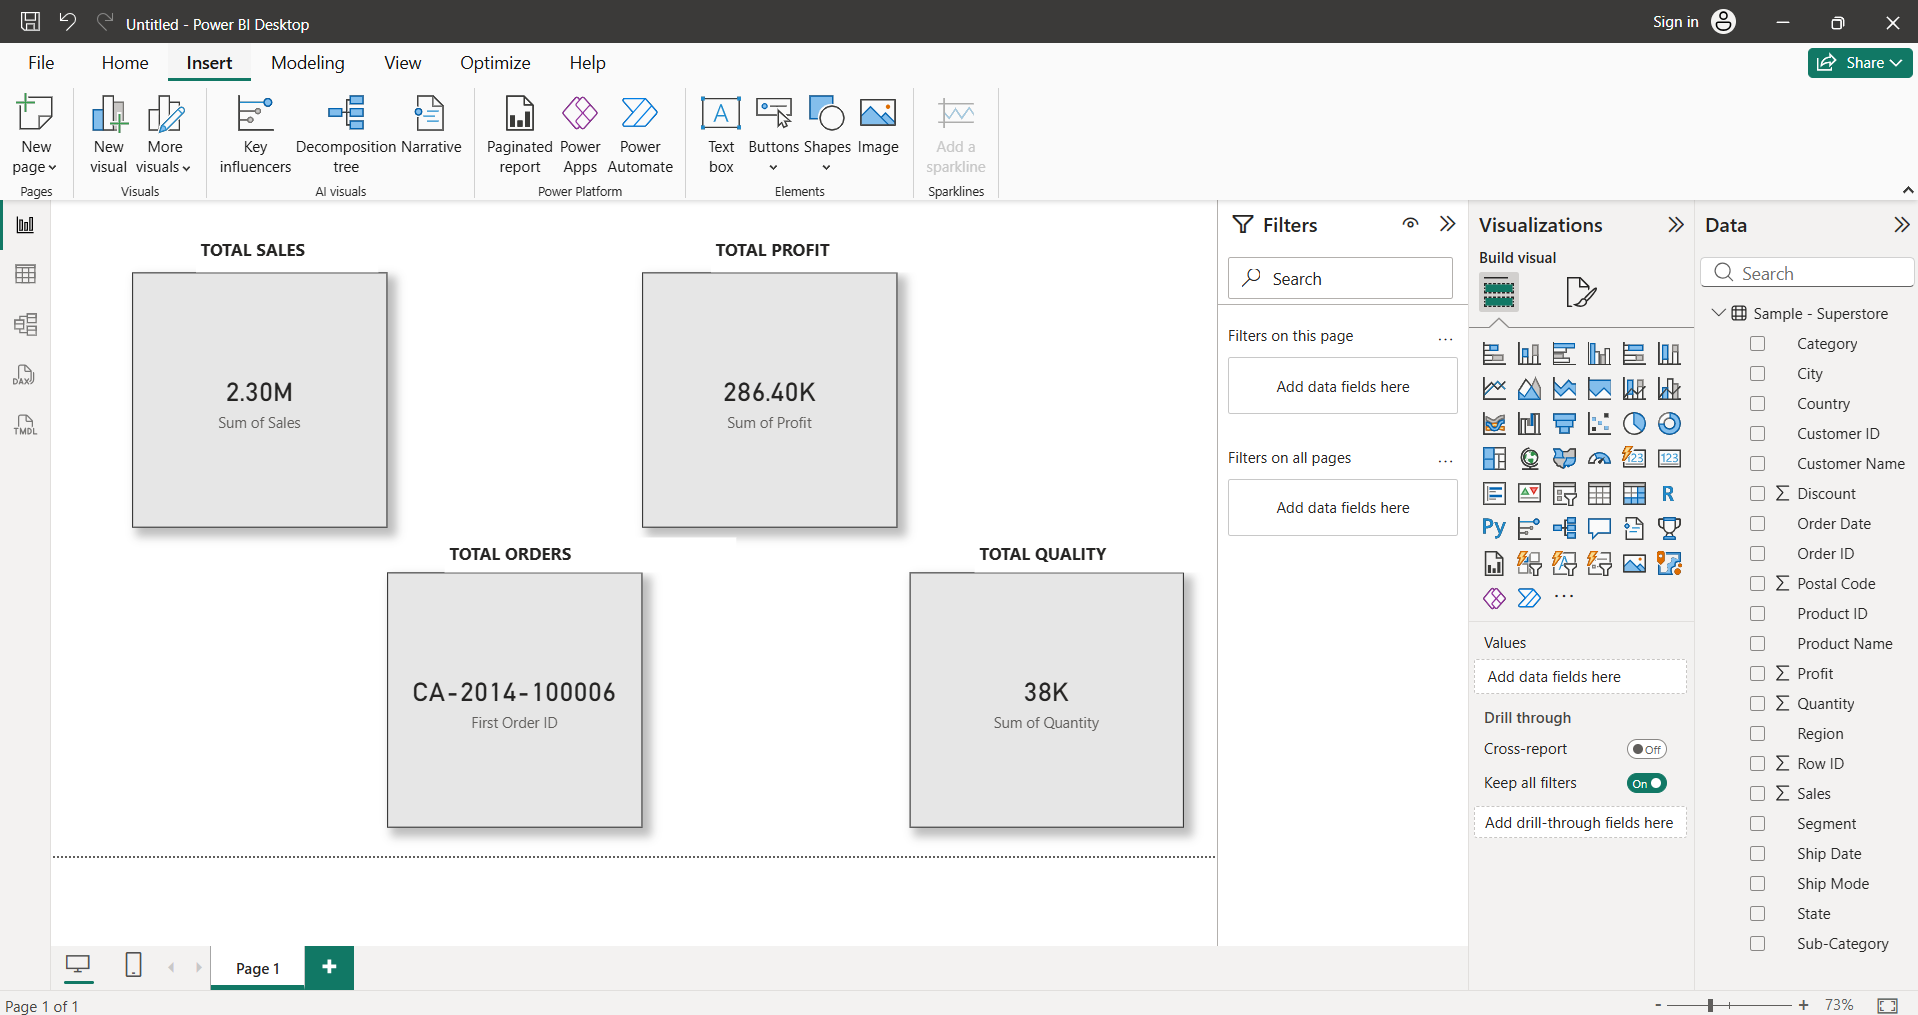

What the dashboard file says about the page in this screenshot:
{"tool":"powerbi","page":{"name":"Page 2","canvas":[1280,720],"ordinal":1},"visuals":[{"type":"card","fields":{"Values":["Sum(Sample - Superstore.Sales)"]},"box":[29.6,70.4,280.3,280.3],"z":0},{"type":"textbox","box":[102.8,14.1,207,56.3],"z":1000},{"type":"card","fields":{"Values":["Sum(Sample - Superstore.Profit)"]},"box":[309.9,401.4,280.3,278.9],"z":2000},{"type":"textbox","box":[384.5,350.7,408.5,50.7],"z":3000},{"type":"card","fields":{"Values":["Min(Sample - Superstore.Order ID)"]},"box":[590.1,70.4,284.5,278.9],"z":4000},{"type":"textbox","box":[663.4,14.1,229.6,56.3],"z":5000},{"type":"card","fields":{"Values":["Sum(Sample - Superstore.Quantity)"]},"box":[893,401.4,285.9,278.9],"z":6000},{"type":"textbox","box":[956.3,349.3,222.5,52.1],"z":7000}]}

Visuals, with their boxes on the page's 1280x720 design canvas (x1, y1, x2, y2). These are canvas units, not pixel positions in the 1918x1015 screenshot, which may show the page scaled, cropped or inside an application window:
card - Sum(Sample - Superstore.Sales): box(30, 70, 310, 351)
textbox: box(103, 14, 310, 70)
card - Sum(Sample - Superstore.Profit): box(310, 401, 590, 680)
textbox: box(384, 351, 793, 401)
card - Min(Sample - Superstore.Order ID): box(590, 70, 875, 349)
textbox: box(663, 14, 893, 70)
card - Sum(Sample - Superstore.Quantity): box(893, 401, 1179, 680)
textbox: box(956, 349, 1179, 401)
